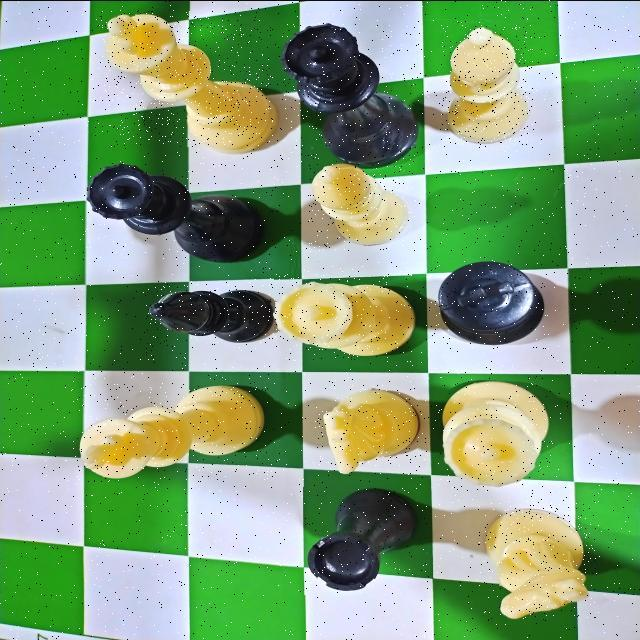black-bishop: (146, 281, 273, 347)
black-king: (432, 258, 547, 348)
black-queen: (280, 22, 416, 162), (83, 162, 268, 261)
black-rook: (304, 486, 428, 594)
white-bishop: (441, 24, 535, 144), (308, 162, 406, 250)
white-king: (95, 10, 274, 146), (77, 381, 269, 481)
white-knight: (484, 499, 597, 619), (317, 384, 423, 478)
white-queen: (438, 377, 554, 495), (274, 272, 412, 360)
